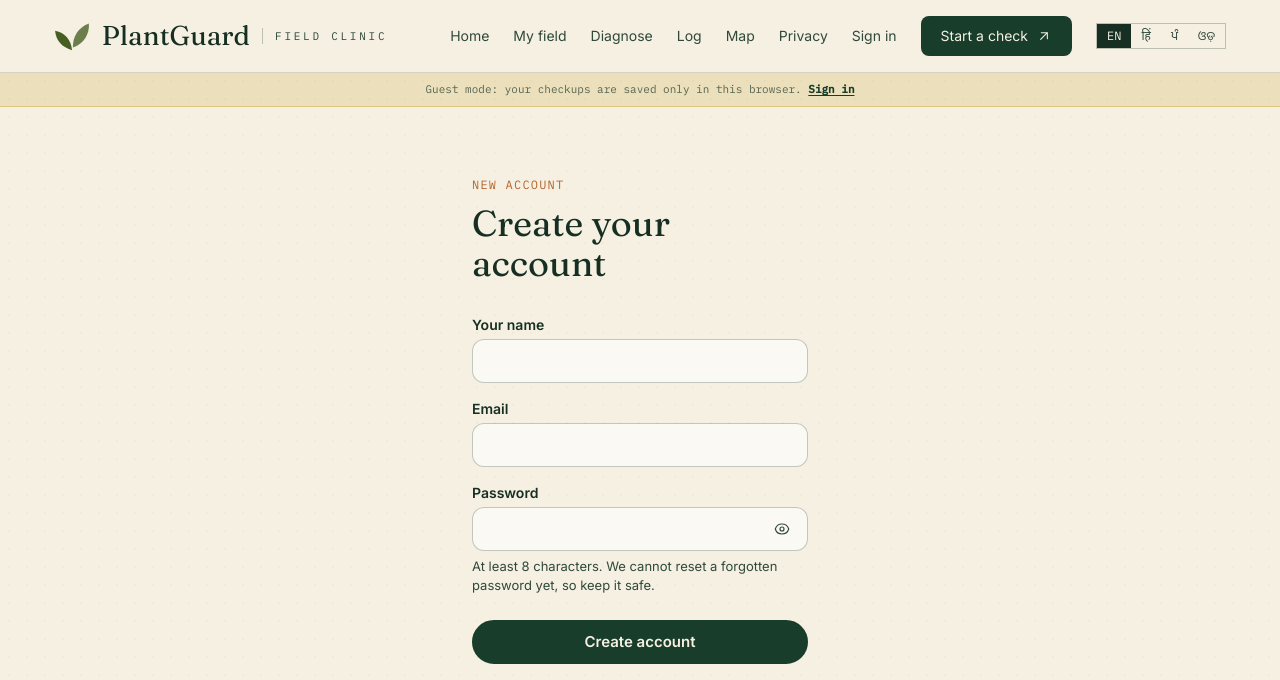
Test: signing in › registering: a 409 answer is explained
In the field labelled "Your name": (640, 360) left=472, top=338, right=808, bottom=382, type "Asha"
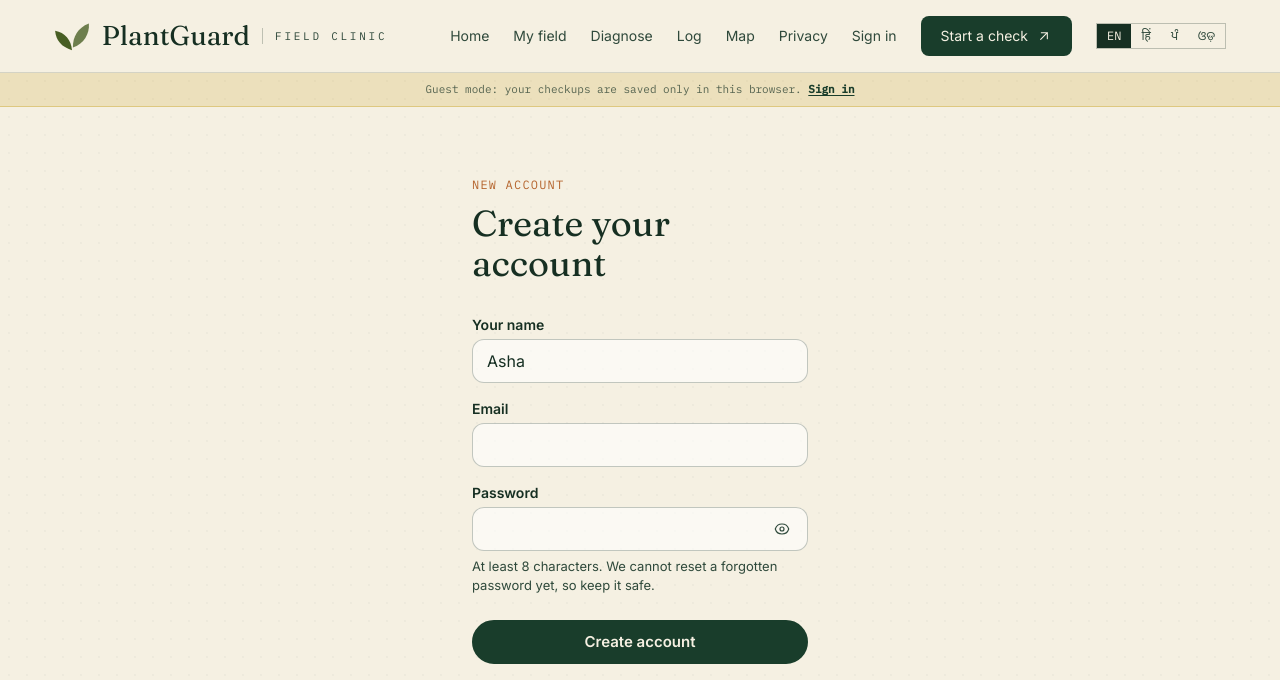
In the field labelled "Email": (640, 444) left=472, top=422, right=808, bottom=466, type "asha@example.com"
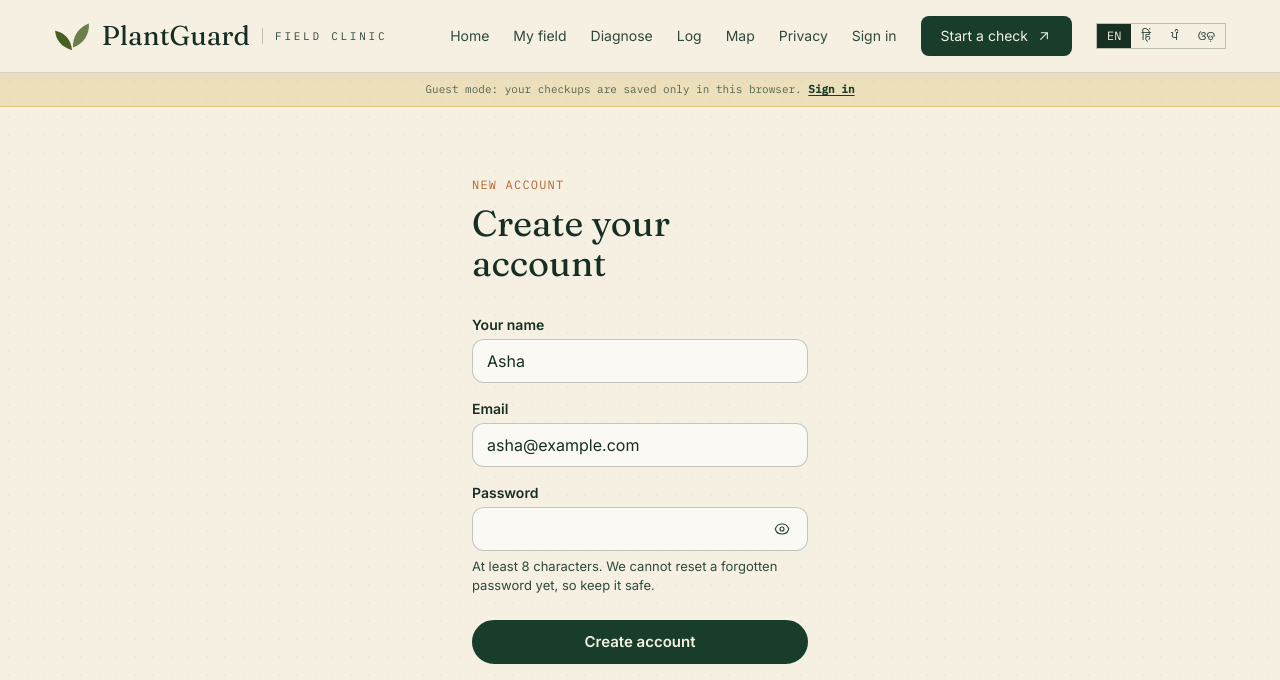
In the password field labelled "Password": (640, 528) left=472, top=506, right=808, bottom=550, type "correct horse battery"
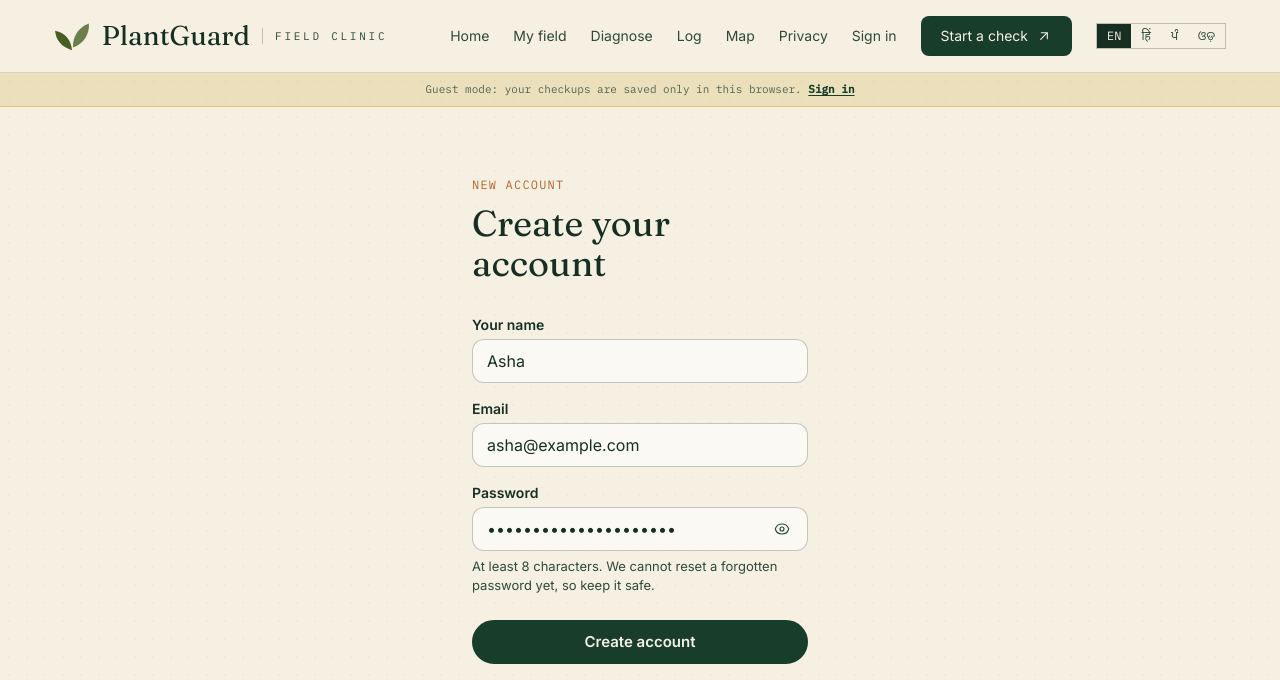
Click the button "Create account": (640, 642) left=472, top=620, right=808, bottom=664
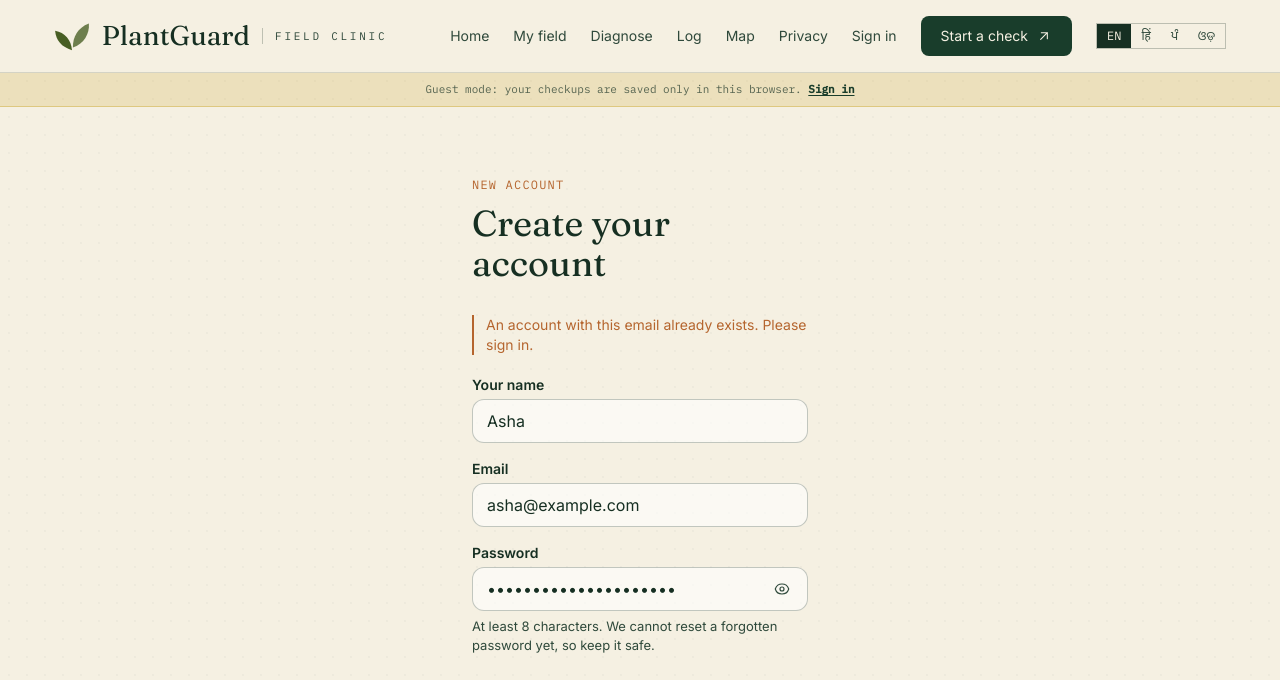
Expected: the message shows "already exists", left=486, top=316, right=806, bottom=352
